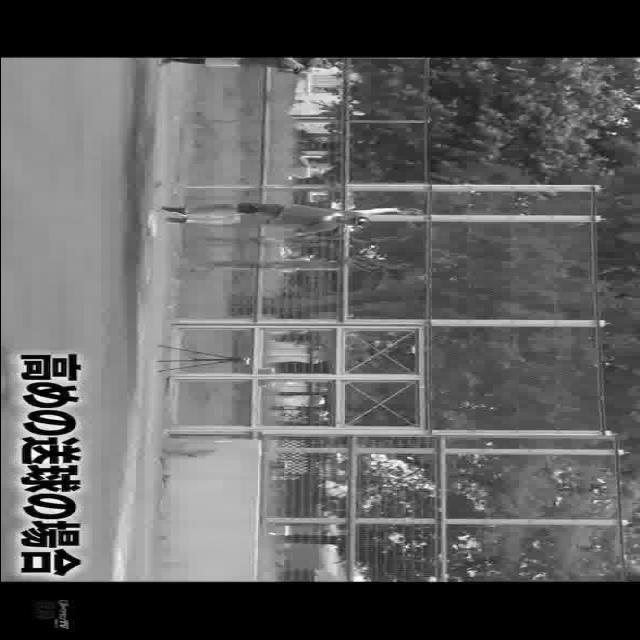base: (146, 210, 157, 236)
baseball_glove: (392, 206, 422, 214)
shoe: (162, 207, 192, 215), (167, 216, 186, 226)
